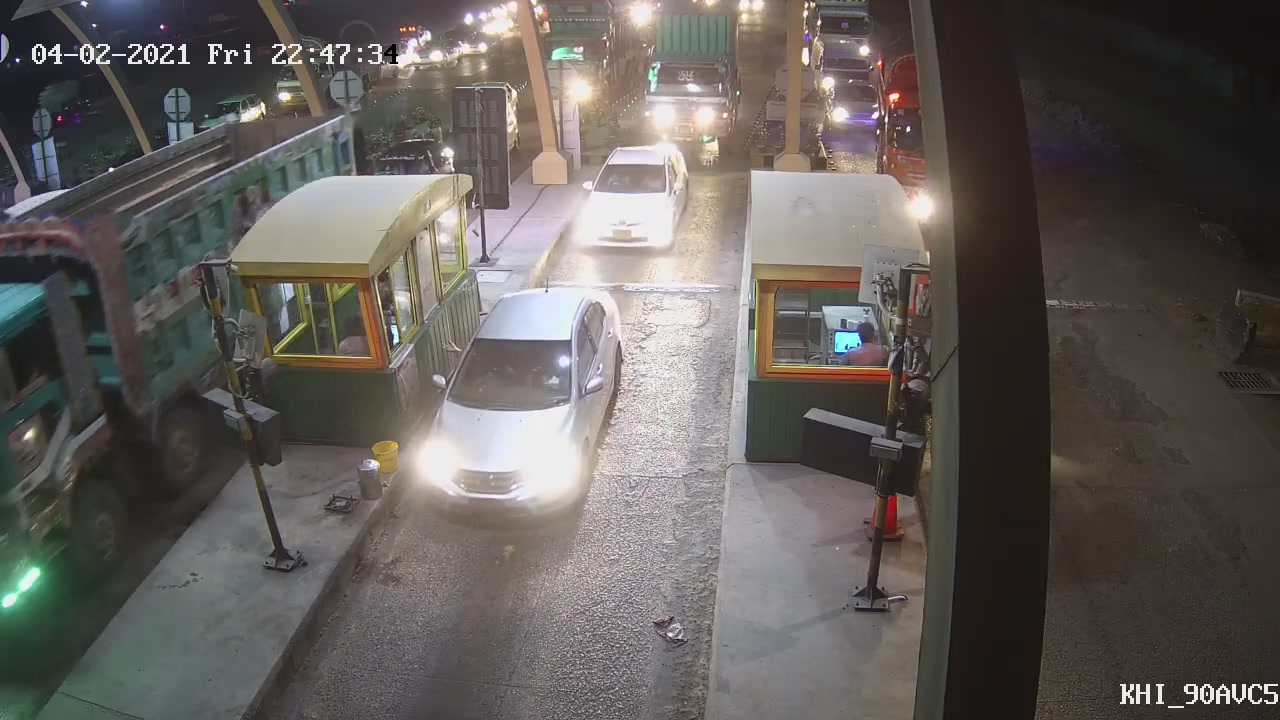F1: (413, 282, 628, 518), (576, 138, 695, 256)
